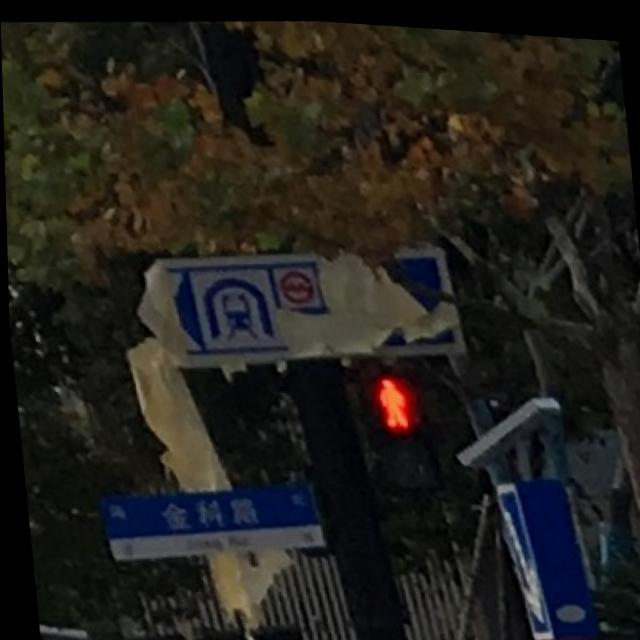red_light: (359, 358, 424, 433)
